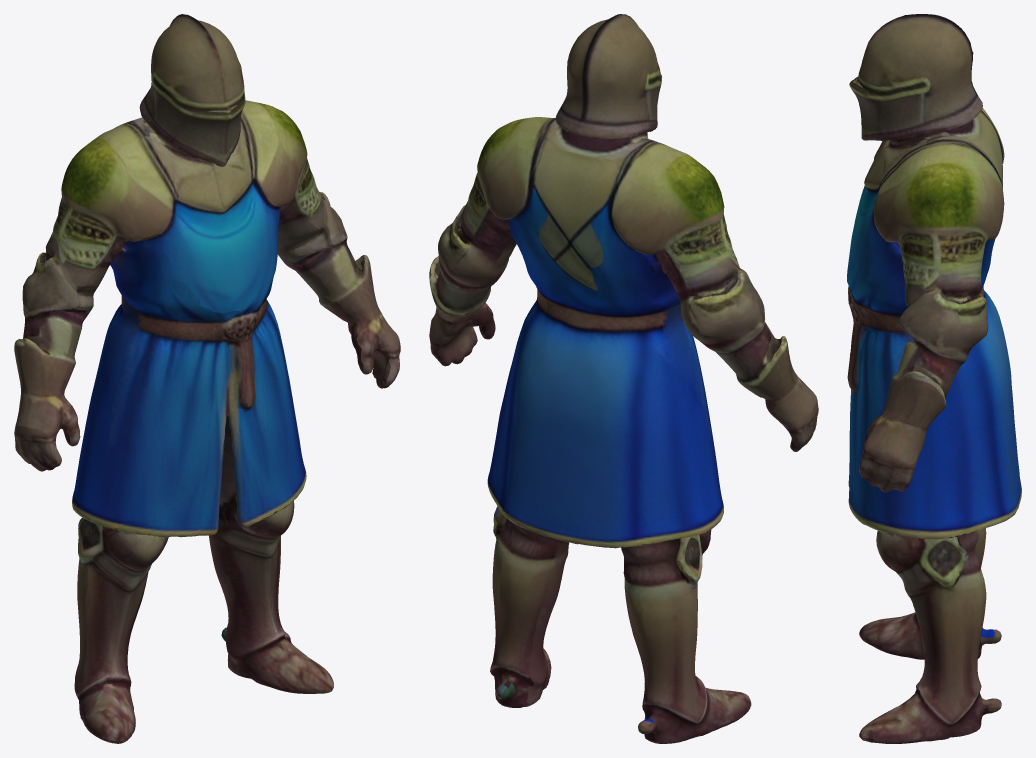
Rendered from knight-rider-body-hunyuan-mv.glb.
3 renders of one model, left to right at view 1: azimuth 30°, elevation 25°; view 2: azimuth 150°, elevation 25°; view 3: azimuth 270°, elevation 25°, orthographic.
Parts seen in each view (by area): view 1: tmpw6gfh8x_.ply; view 2: tmpw6gfh8x_.ply; view 3: tmpw6gfh8x_.ply.
Part boxes in pixels (x1=…): tmpw6gfh8x_.ply: x1=14, y1=14, x2=400, y2=743; tmpw6gfh8x_.ply: x1=429, y1=14, x2=818, y2=743; tmpw6gfh8x_.ply: x1=847, y1=14, x2=1021, y2=743.
Bounding box in the file's own units: 0.5748 × 0.9872 × 0.2312.
Materials: 1 (1 with a texture image).
